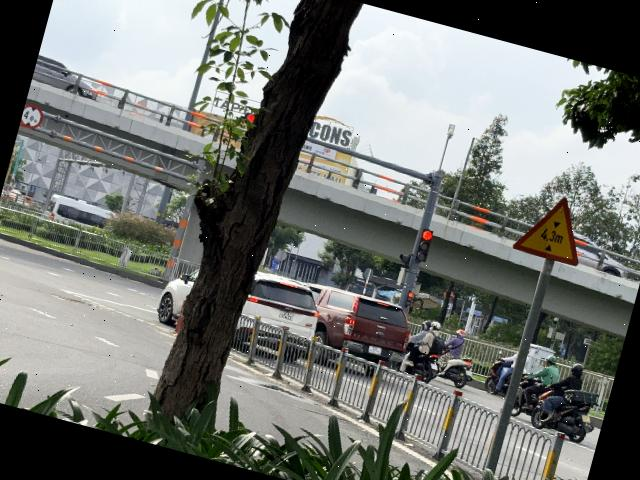chieu-cao-tinh-khong-thuc-te: (511, 186, 594, 266)
